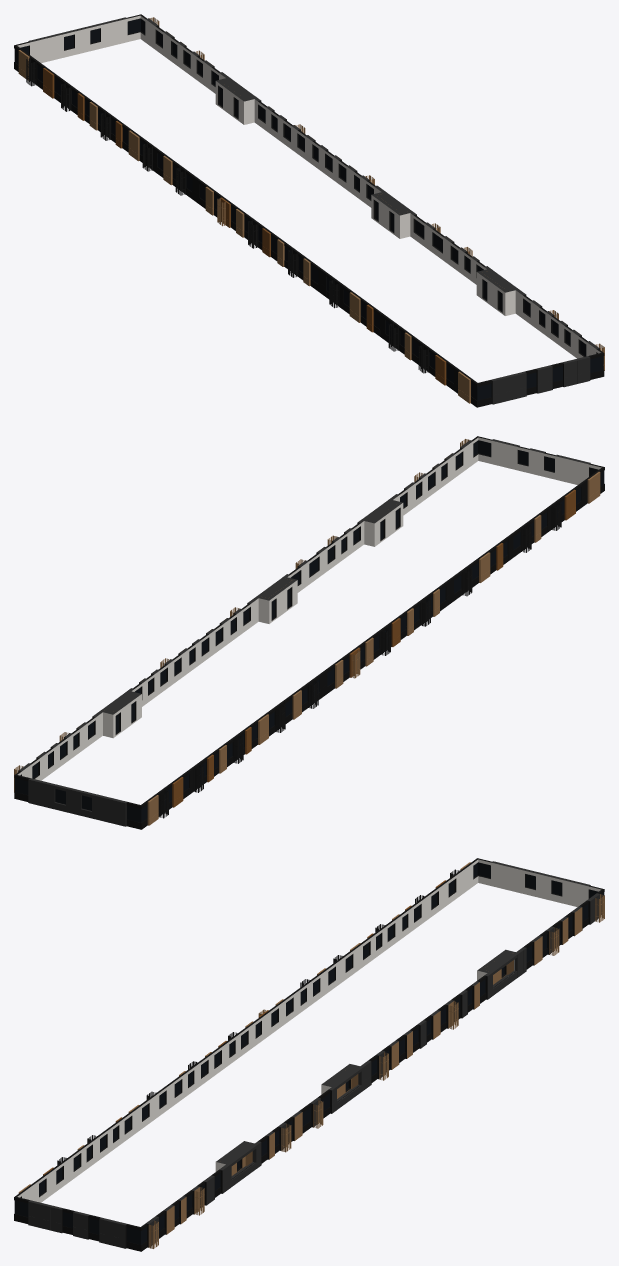
The model's file is floor_22_ext.FBX.
3 renders of one model, top to bottom at view 1: azimuth 30°, elevation 25°; view 2: azimuth 150°, elevation 25°; view 3: azimuth 330°, elevation 25°, orthographic.
Visible parts, largest first — view 1: floor_22_ext; view 2: floor_22_ext; view 3: floor_22_ext.
Boxes of the visible parts, bbox=[...] form: floor_22_ext: bbox=[14, 14, 604, 407]; floor_22_ext: bbox=[14, 436, 604, 829]; floor_22_ext: bbox=[14, 858, 604, 1251].
Size of the model in its own units: 18.55 by 3 by 108.
